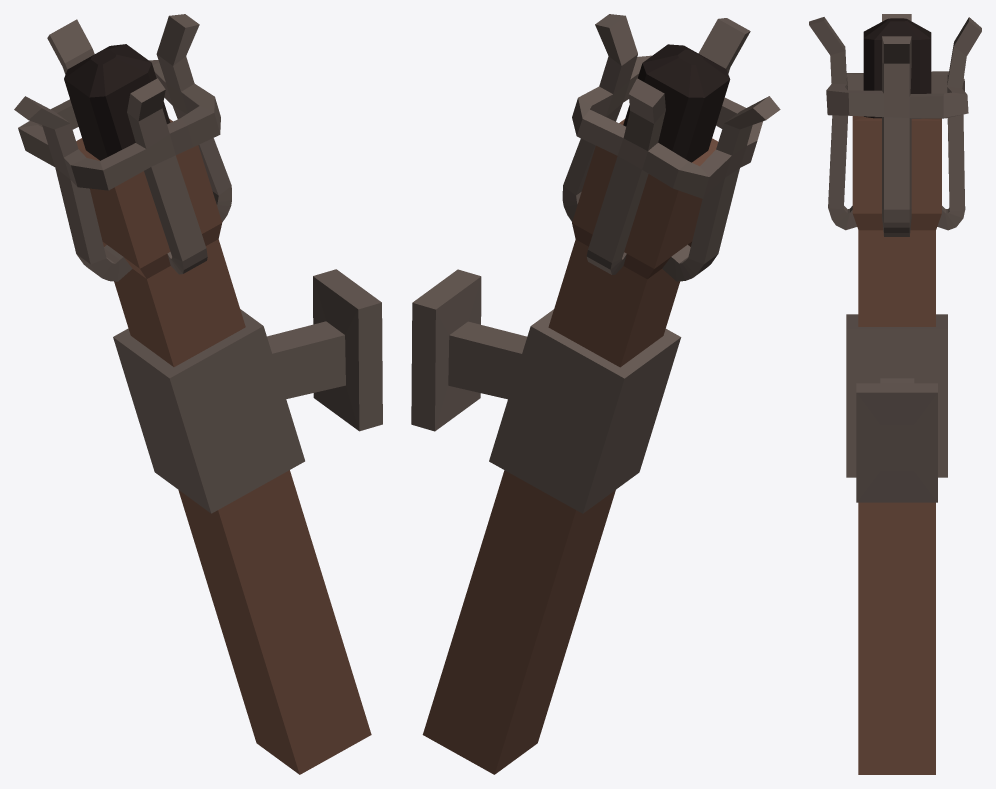
Rendered from WallTorch.fbx.
3 renders of one model, left to right at view 1: azimuth 30°, elevation 25°; view 2: azimuth 150°, elevation 25°; view 3: azimuth 270°, elevation 25°, orthographic. The views are drawn at different scales.
Parts seen in each view (by area): view 1: WallTorch; view 2: WallTorch; view 3: WallTorch.
Part boxes in pixels (bbox=[...]): WallTorch: bbox=[14, 14, 382, 774]; WallTorch: bbox=[411, 14, 780, 774]; WallTorch: bbox=[809, 14, 981, 774].
Size of the model in its own units: 23.88 by 51.27 by 11.75.
